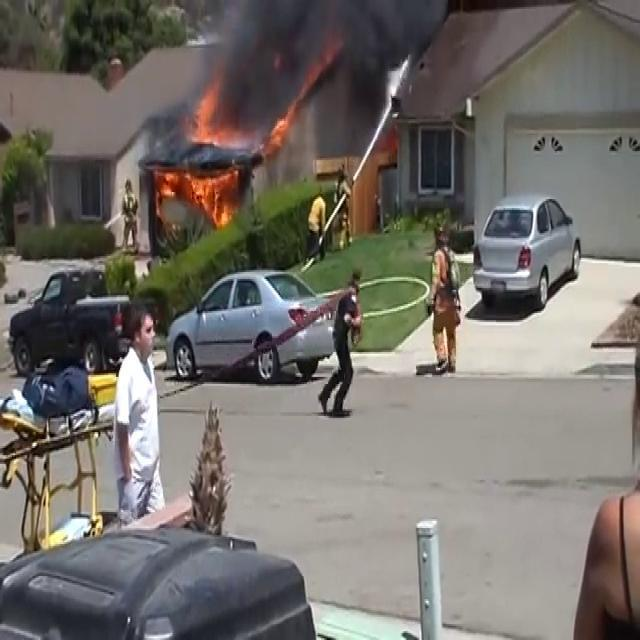Fire: (166, 166, 240, 231), (190, 83, 242, 154), (266, 106, 290, 150)
Smoke: (200, 0, 396, 139)
